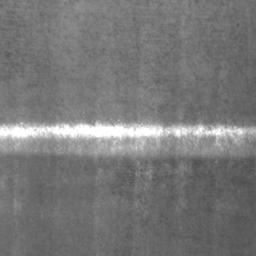Bright scratch: (0, 123, 256, 155)
